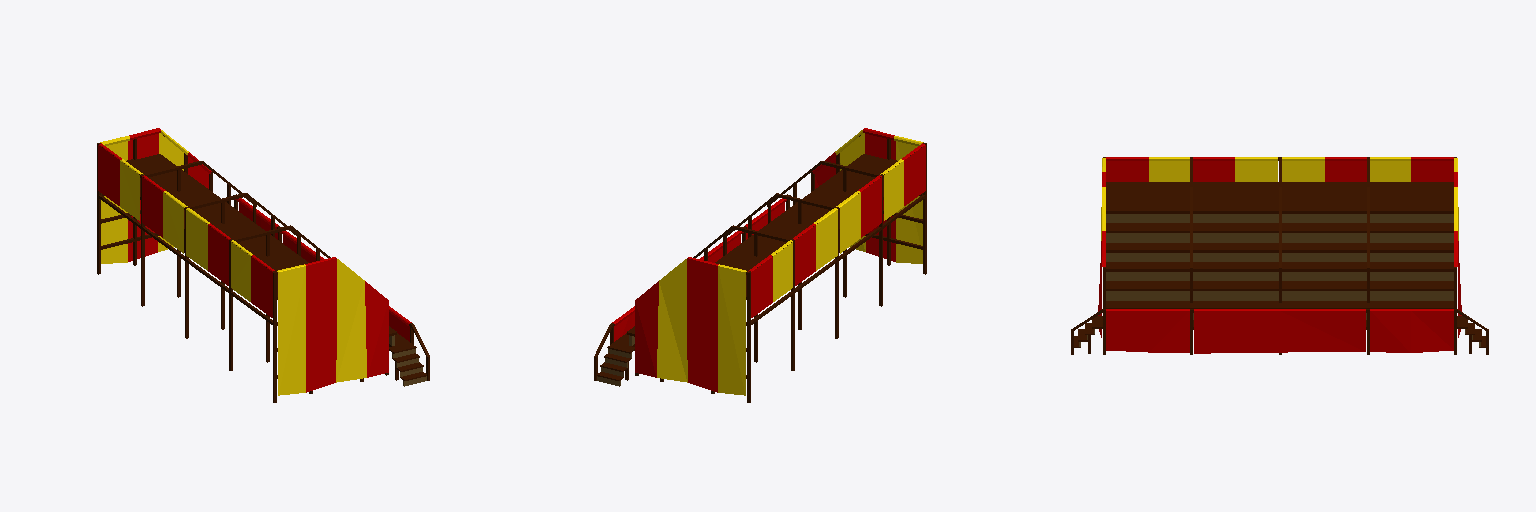
File: Platform_red_yellow.obj
The picture shows the model from 3 angles: view 1: azimuth 30°, elevation 25°; view 2: azimuth 150°, elevation 25°; view 3: azimuth 270°, elevation 25°; orthographic projection.
Parts seen in each view (by area): view 1: Platform_01; view 2: Platform_01; view 3: Platform_01.
Boxes of the visible parts, box(x1,y1,x2,y2) form: Platform_01: box(97, 128, 429, 402); Platform_01: box(594, 128, 926, 402); Platform_01: box(1071, 157, 1488, 354).
Bounding box in the file's own units: 5.63 × 4.96 × 14.4.